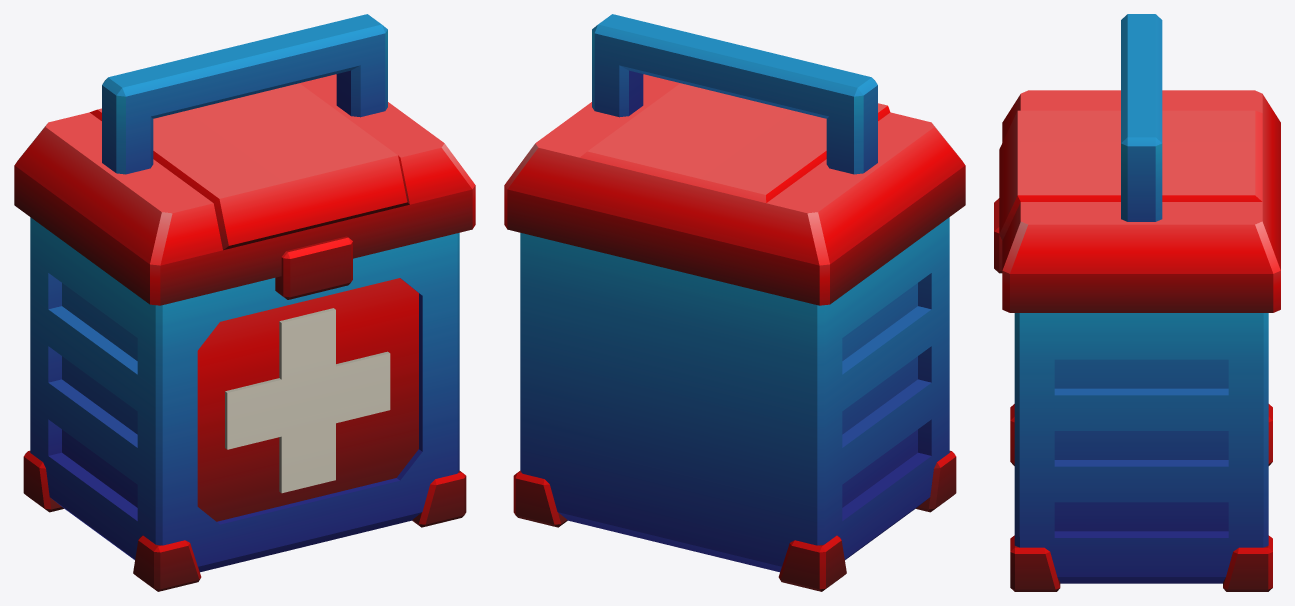
Rendered from First_Aid_Kit_1.fbx.
3 views of the same model, side by side, from view 1: azimuth 30°, elevation 25°; view 2: azimuth 150°, elevation 25°; view 3: azimuth 270°, elevation 25° (orthographic). The views are drawn at different scales.
Parts seen in each view (by area): view 1: Cube.002; view 2: Cube.002; view 3: Cube.002.
Boxes of the visible parts, x1,y1,x2,y2 form: Cube.002: (14,14,475,591); Cube.002: (504,14,965,591); Cube.002: (994,14,1280,591).
Bounding box in the file's own units: 40.19 × 53.83 × 31.49.
